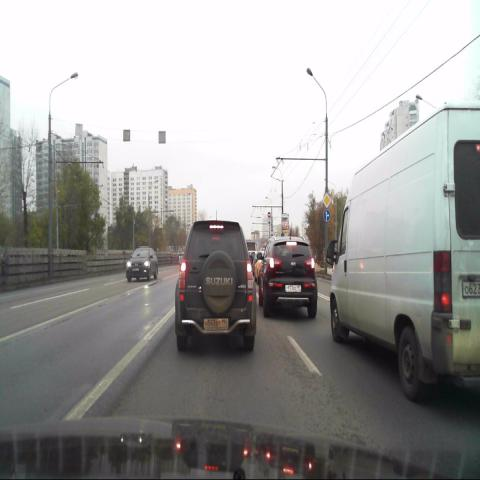2_1: (322, 191, 331, 208)
4_1_4: (323, 210, 330, 222)
